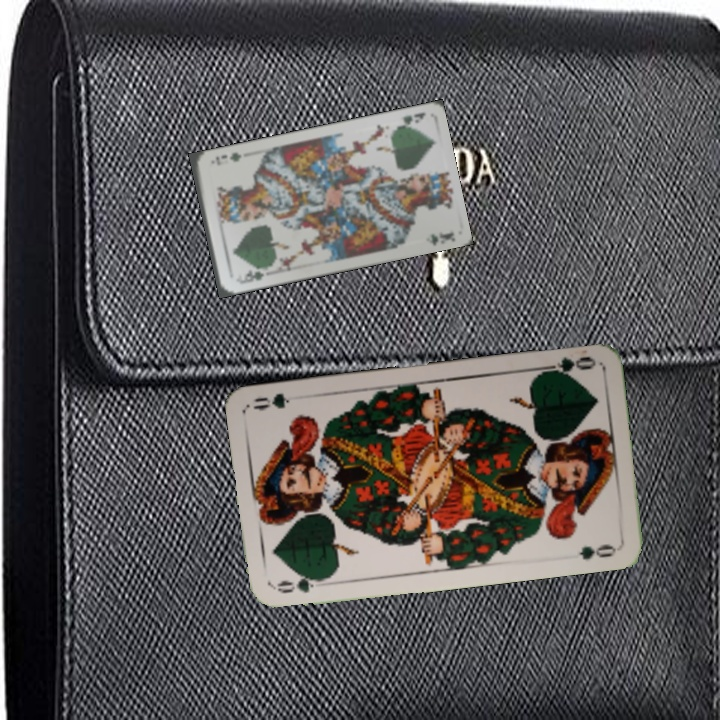GK: (391, 108, 428, 132), (234, 267, 267, 286)
GO: (537, 352, 597, 380), (273, 571, 330, 596)
